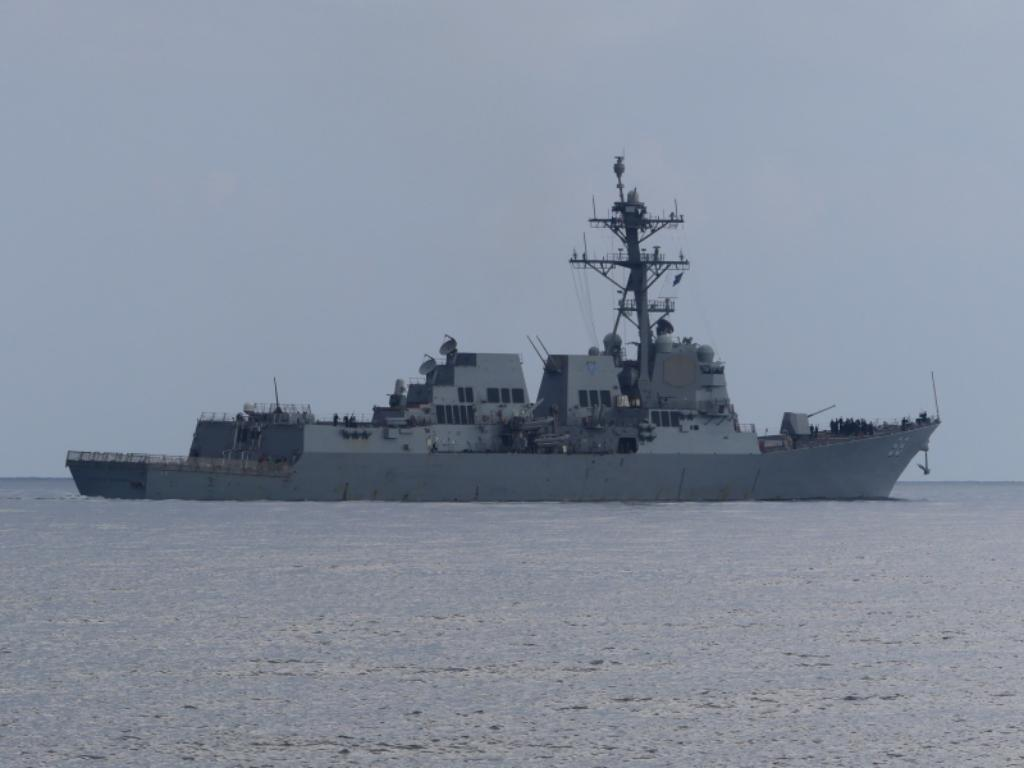Warship: (62, 146, 946, 504)
